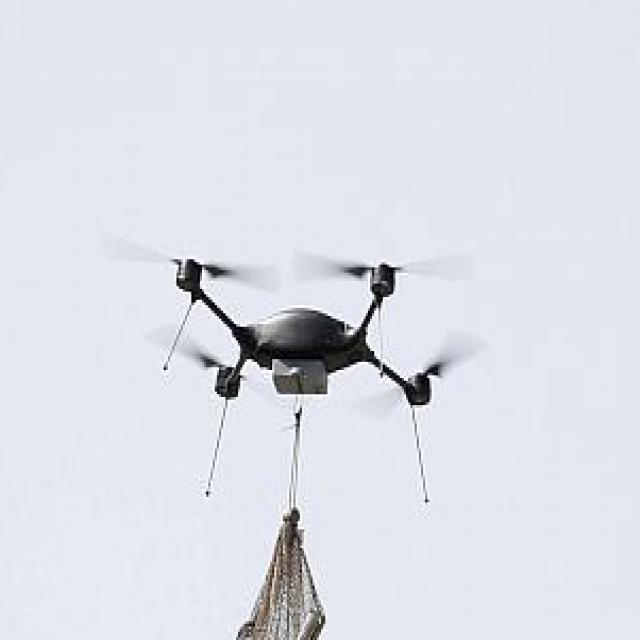drone: (87, 210, 498, 500)
